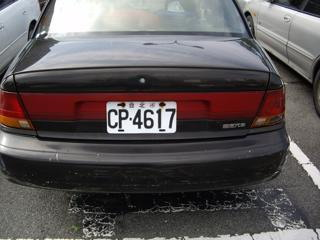plate: (106, 99, 178, 136)
